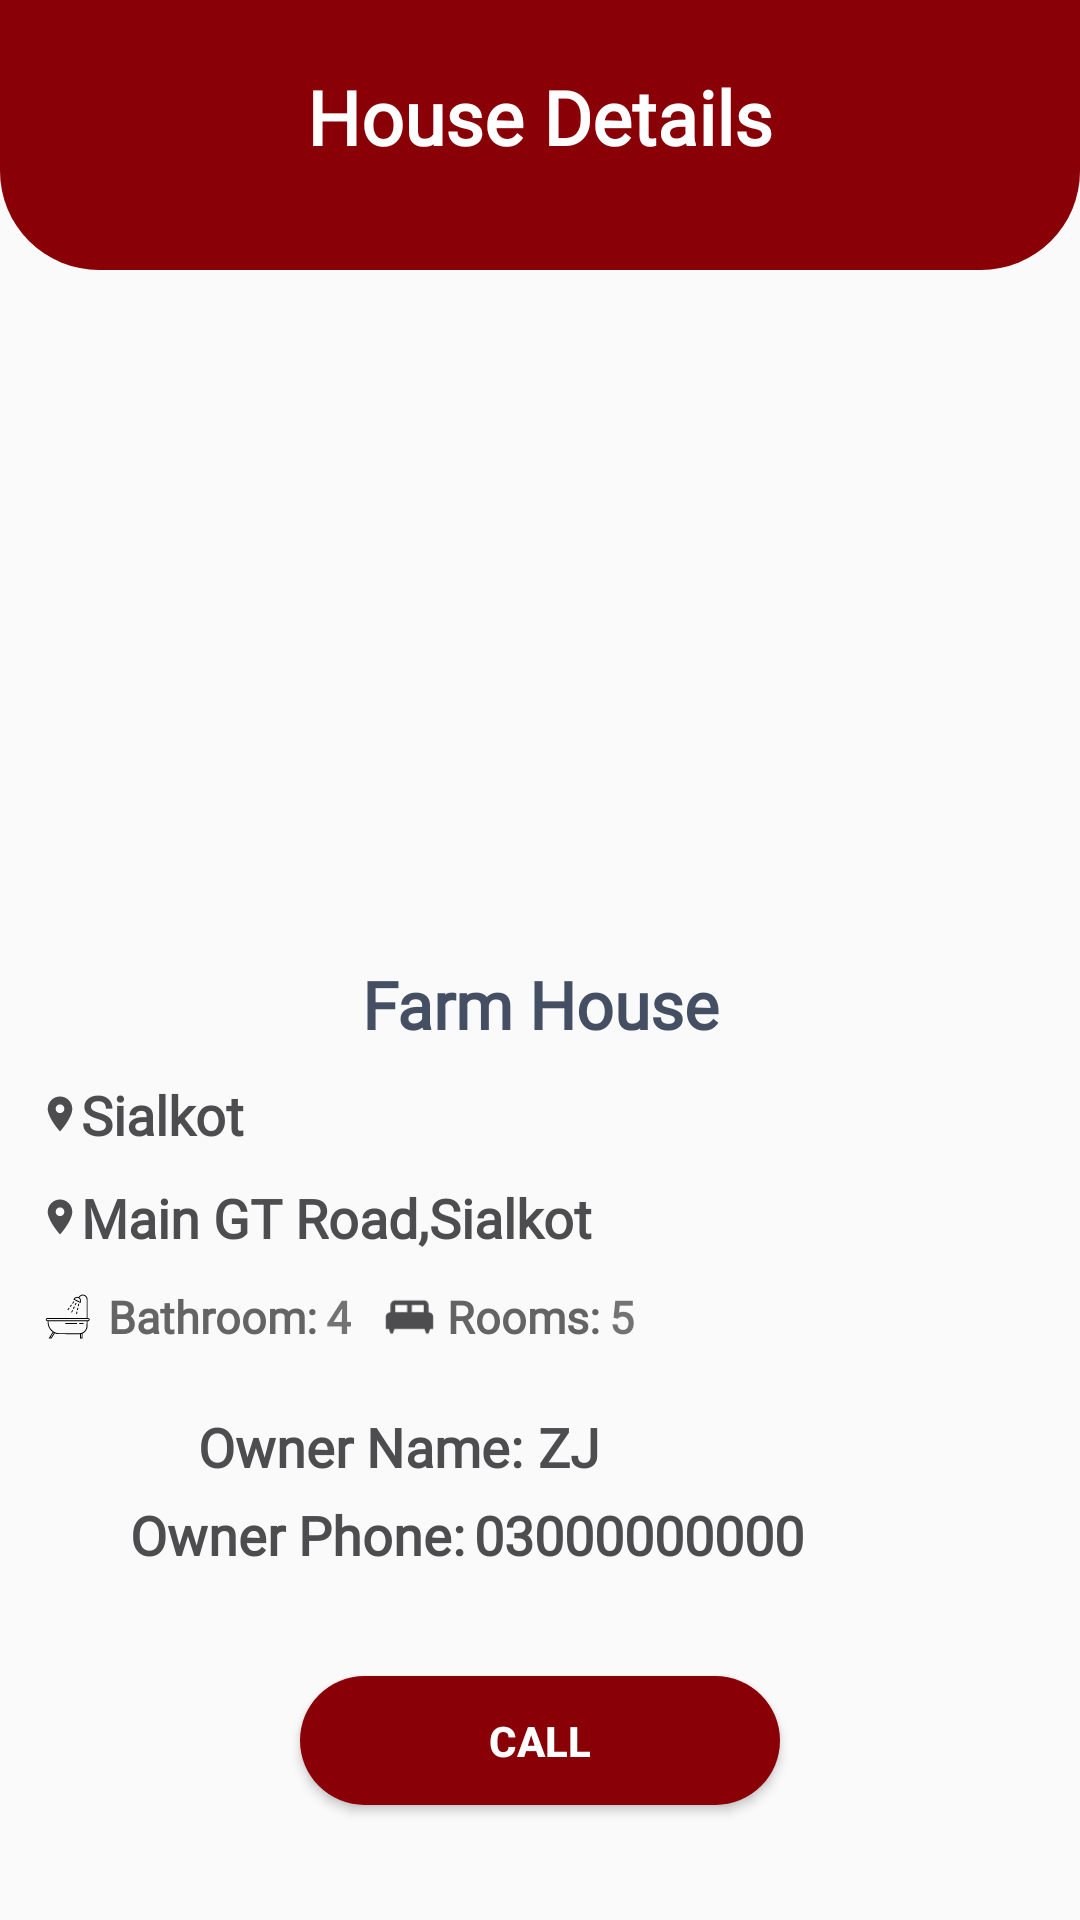

Icon click points for this 1080x1920 phone screenshot, format (x=x, y=y):
king bed: (x=409, y=1317)
